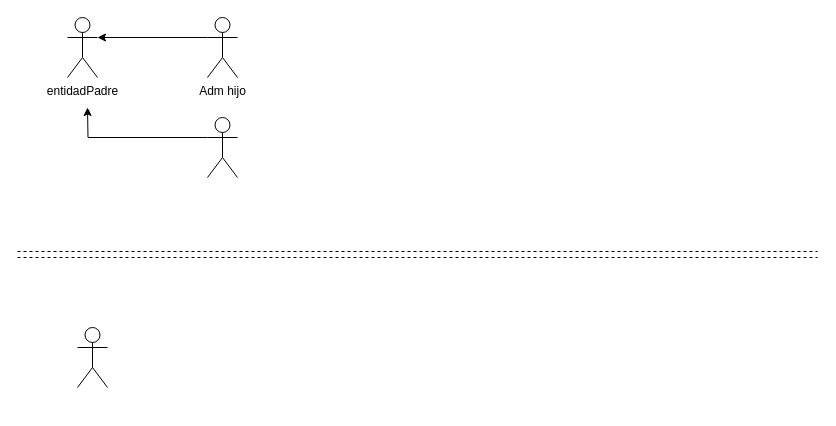
This 836x426 diagram has some shape labels left out. The shapes that lost their labels are listed below. From the top down, each one's box as (x1, y1, x2, y2) in pixels, then its label:
(206, 116, 238, 178): vendedor hijo
(76, 326, 108, 388): Adm que creo
